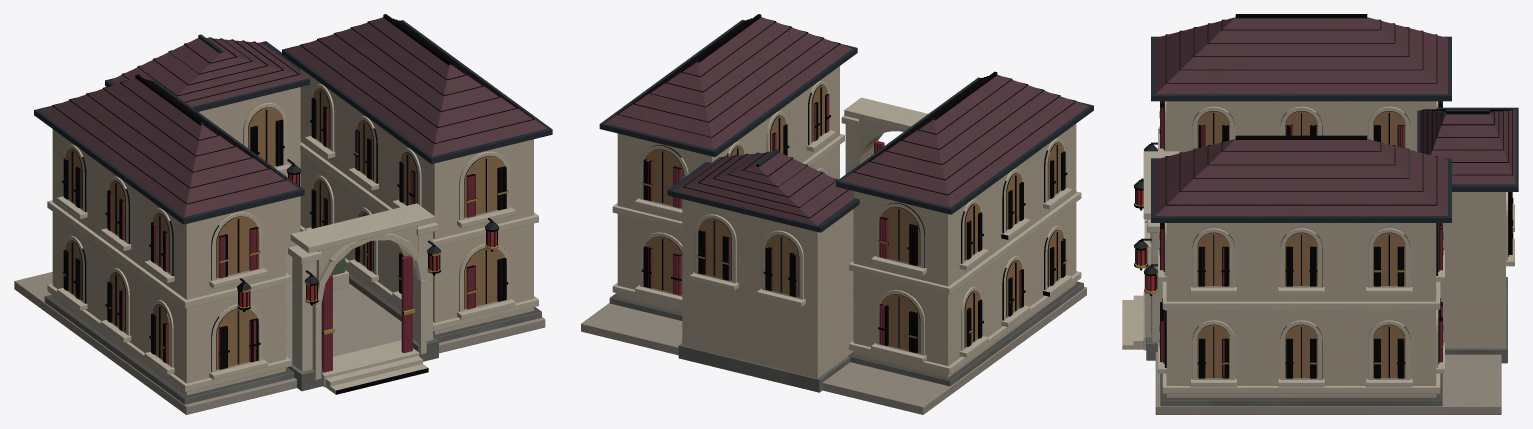
The model's file is VeiledCourtyard.fbx.
3 renders of one model, left to right at view 1: azimuth 30°, elevation 25°; view 2: azimuth 150°, elevation 25°; view 3: azimuth 270°, elevation 25°, orthographic. The views are drawn at different scales.
Parts seen in each view (by area): view 1: VeiledCourtyard.001; view 2: VeiledCourtyard.001; view 3: VeiledCourtyard.001.
Part boxes in pixels (x1=…): VeiledCourtyard.001: x1=14, y1=14, x2=552, y2=414; VeiledCourtyard.001: x1=581, y1=14, x2=1093, y2=414; VeiledCourtyard.001: x1=1122, y1=14, x2=1518, y2=414.
Size of the model in its own units: 11.23 by 7.27 by 10.38.
